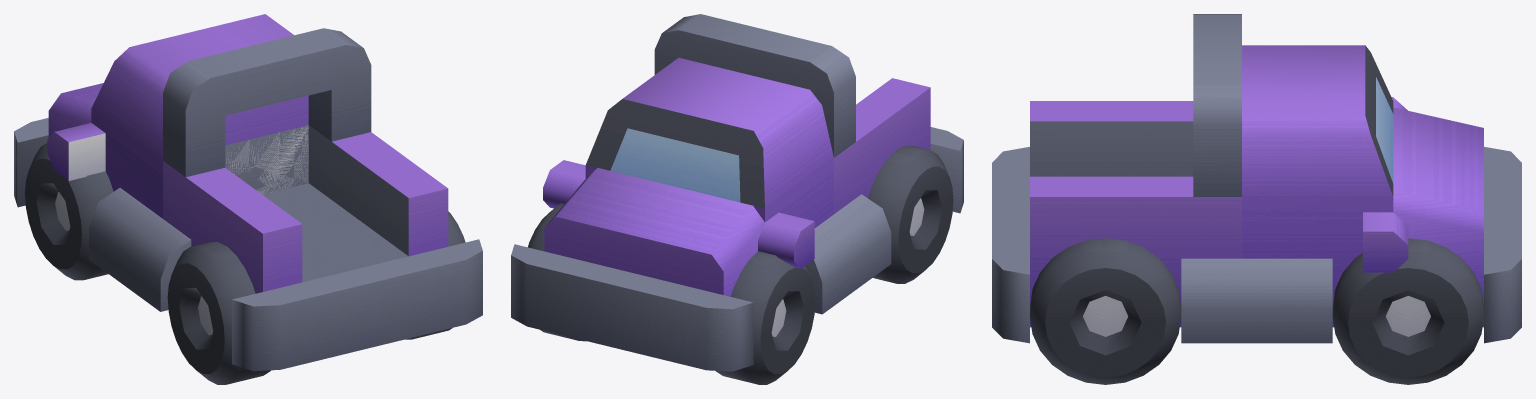
Rendered from vehicle-godot-suv.glb.
3 renders of one model, left to right at view 1: azimuth 30°, elevation 25°; view 2: azimuth 150°, elevation 25°; view 3: azimuth 270°, elevation 25°, orthographic. The views are drawn at different scales.
Parts seen in each view (by area): view 1: vehicle-col, wheel-col.003, wheel-col.001, wheel-col.002; view 2: vehicle-col, wheel-col.003, wheel-col.001, wheel-col; view 3: vehicle-col, wheel-col.002, wheel-col.
Boxes of the visible parts, x1,y1,x2,y2 form: vehicle-col: (14, 14, 482, 371); wheel-col.003: (167, 242, 270, 384); wheel-col.001: (25, 143, 113, 280); wheel-col.002: (405, 211, 465, 339); vehicle-col: (511, 14, 963, 371); wheel-col.003: (868, 145, 953, 283); wheel-col.001: (716, 251, 815, 384); wheel-col: (528, 203, 586, 341); vehicle-col: (992, 14, 1521, 343); wheel-col.002: (1030, 238, 1181, 384); wheel-col: (1332, 238, 1483, 384).
Size of the model in its own units: 0.525 by 0.505 by 0.875.
Materials: 1 (1 with a texture image).
